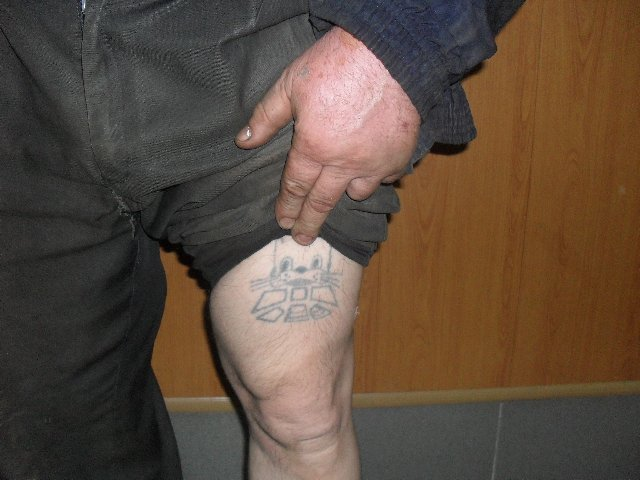tatu8_kot: (260, 247, 345, 329)
